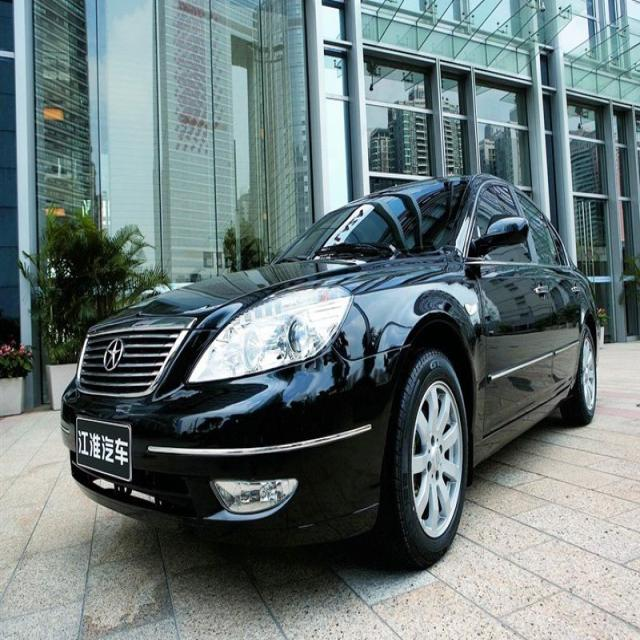front_bumper: (50, 374, 396, 563)
front_glass: (272, 170, 478, 284)
front_left_side_door: (457, 163, 560, 454)
front_left_side_light: (182, 275, 367, 401)
front_left_side_mirror: (463, 209, 535, 271)
wheel: (379, 340, 474, 580), (563, 310, 608, 428)
